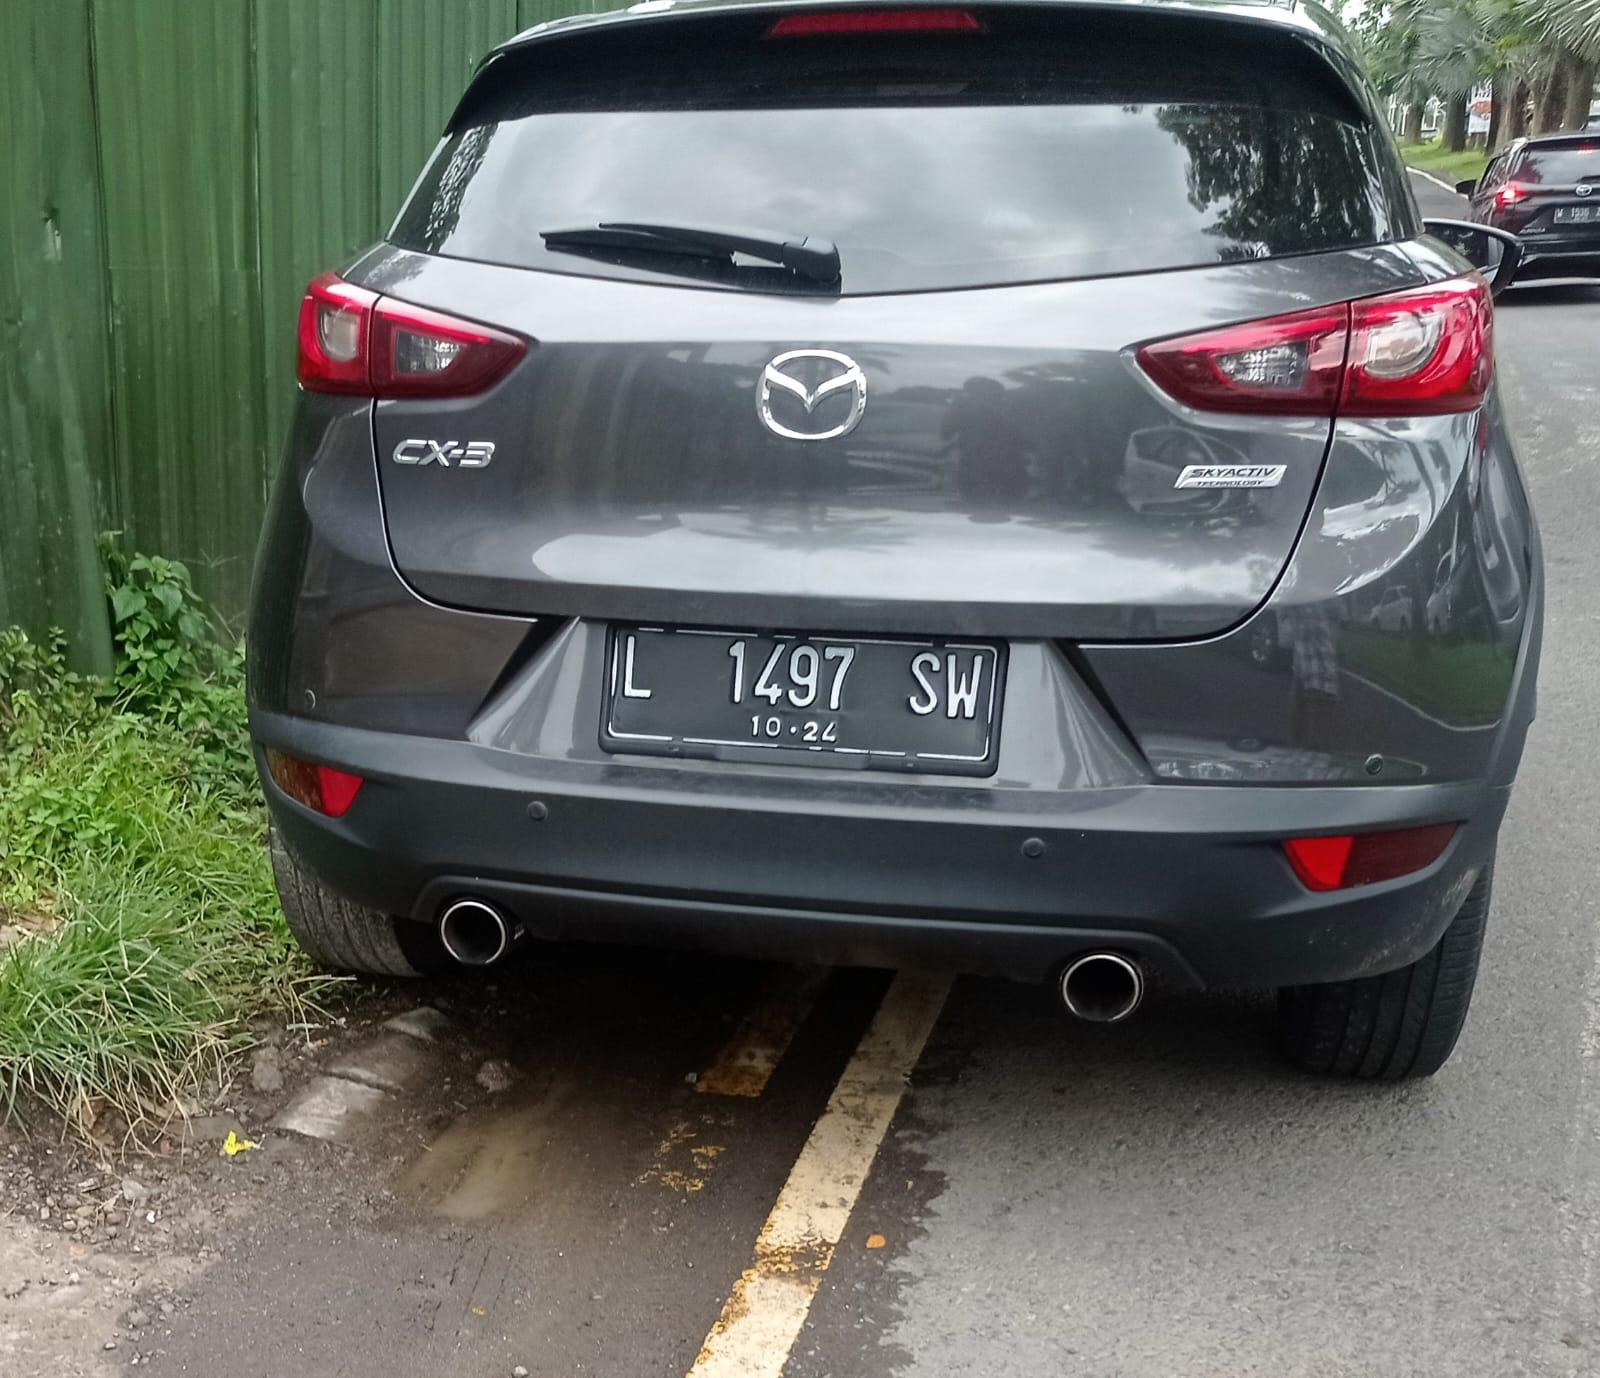plat: (603, 628, 1000, 771)
